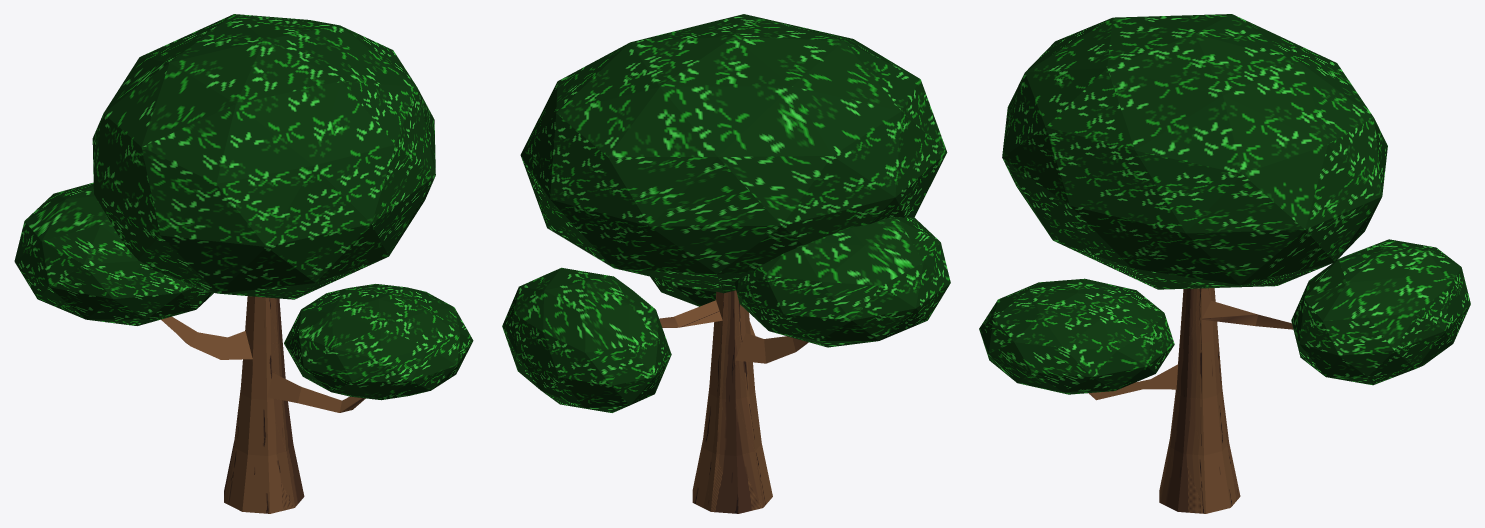
File: Arbol Grande.fbx
The picture shows the model from 3 angles, left to right: view 1: azimuth 30°, elevation 25°; view 2: azimuth 150°, elevation 25°; view 3: azimuth 270°, elevation 25°; orthographic projection.
Parts seen in each view (by area): view 1: Icosphere.003; view 2: Icosphere.003; view 3: Icosphere.003.
Part boxes in pixels (box(x1,y1,x2,y2)): Icosphere.003: box(14, 14, 473, 513); Icosphere.003: box(502, 14, 950, 513); Icosphere.003: box(979, 14, 1470, 513).
Size of the model in its own units: 2873 by 3178 by 3296.
1 material, 1 textured.
